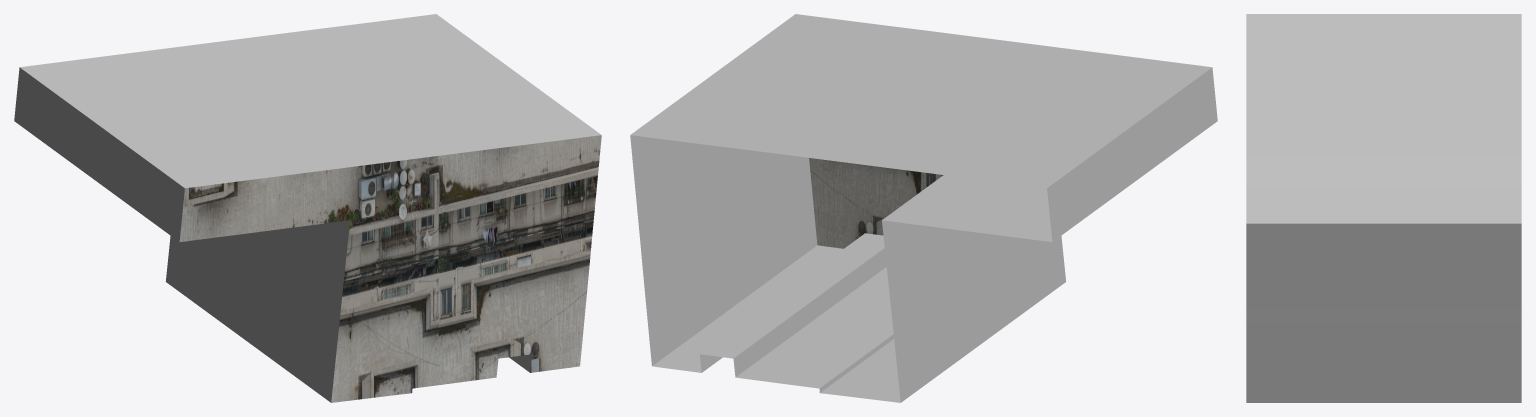
The model's file is geospecific_1439.obj.
3 views of the same model, side by side, from view 1: azimuth 30°, elevation 25°; view 2: azimuth 150°, elevation 25°; view 3: azimuth 270°, elevation 25° (orthographic). The views are drawn at different scales.
Parts seen in each view (by area): view 1: Building; view 2: Building; view 3: Building.
Boxes of the visible parts, <box> form: Building: <box>14,14,601,402</box>; Building: <box>630,14,1217,402</box>; Building: <box>1246,14,1521,402</box>.
Size of the model in its own units: 30.95 by 19.22 by 21.
